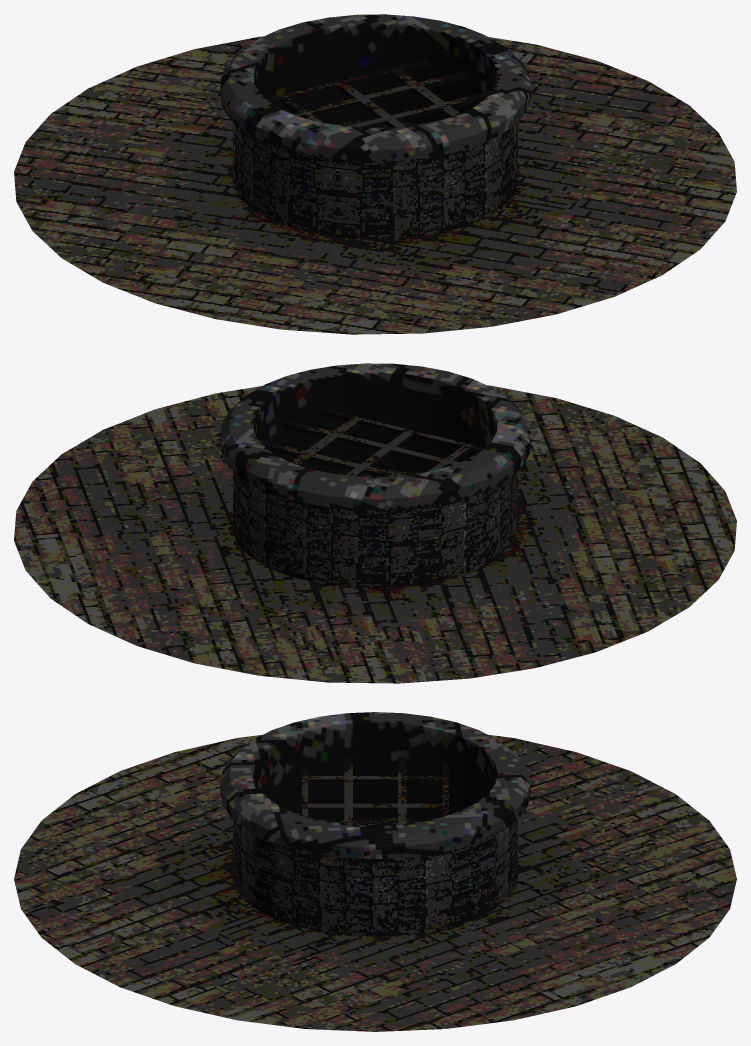
The model's file is Well_00.glb.
3 renders of one model, top to bottom at view 1: azimuth 30°, elevation 25°; view 2: azimuth 150°, elevation 25°; view 3: azimuth 270°, elevation 25°, orthographic.
Parts seen in each view (by area): view 1: Well_00; view 2: Well_00; view 3: Well_00.
Boxes of the visible parts, x1,y1,x2,y2 form: Well_00: (14,14,736,334); Well_00: (14,363,736,683); Well_00: (14,712,736,1031).
Bounding box in the file's own units: 4.72 × 0.7585 × 4.72.
1 material, 1 textured.
